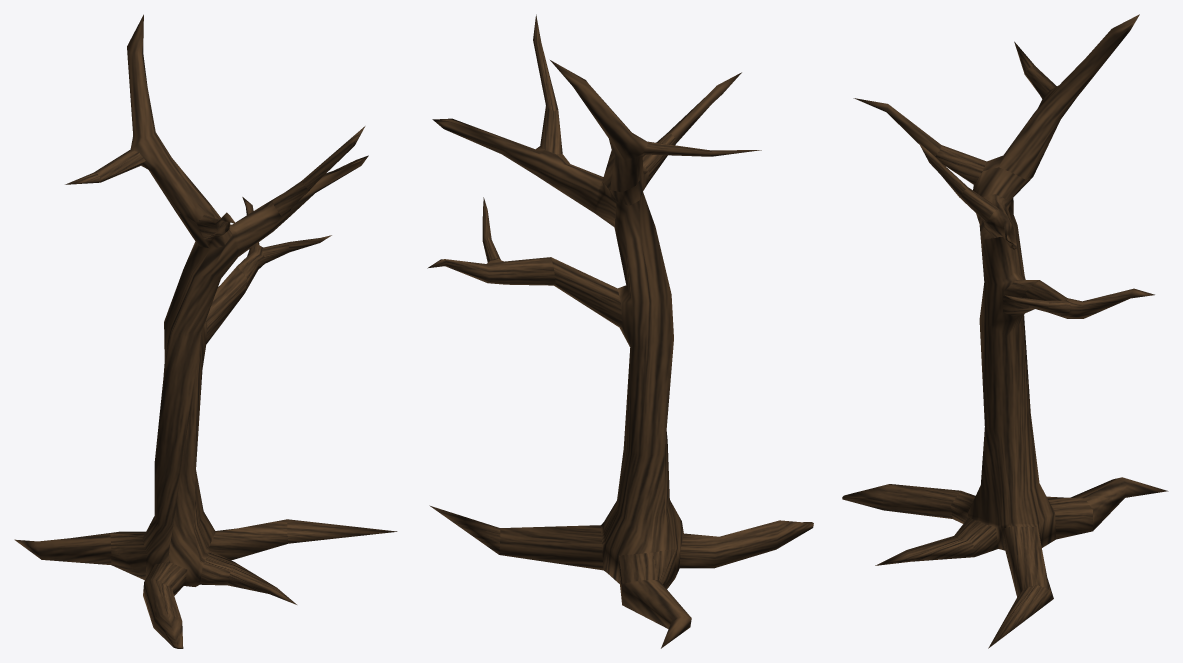
File: broad_leaved_tree_trunk.dae
The picture shows the model from 3 angles, left to right: view 1: azimuth 30°, elevation 25°; view 2: azimuth 150°, elevation 25°; view 3: azimuth 270°, elevation 25°; orthographic projection. The views are drawn at different scales.
Parts seen in each view (by area): view 1: Tree_001_003; view 2: Tree_001_003; view 3: Tree_001_003.
Part boxes in pixels (left/top/right/bottom): Tree_001_003: left=14, top=14, right=397, bottom=648; Tree_001_003: left=427, top=14, right=813, bottom=648; Tree_001_003: left=842, top=14, right=1168, bottom=648.
Size of the model in its own units: 2.38 by 1.97 by 3.6.
Materials: 1 (1 with a texture image).
